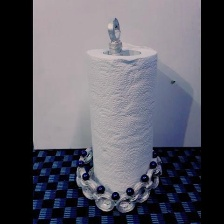tissue: (80, 39, 163, 199)
